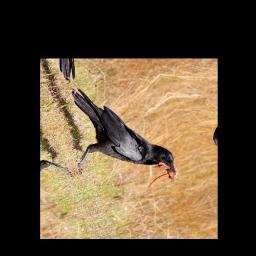Crow: (46, 68, 188, 212)
